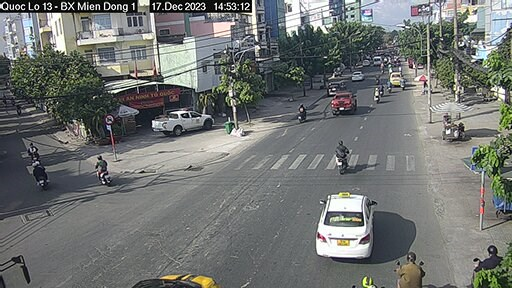car: (313, 186, 381, 264), (144, 105, 220, 143), (328, 89, 358, 121)
motorbike: (88, 154, 117, 185), (334, 139, 354, 168), (293, 102, 310, 129)
